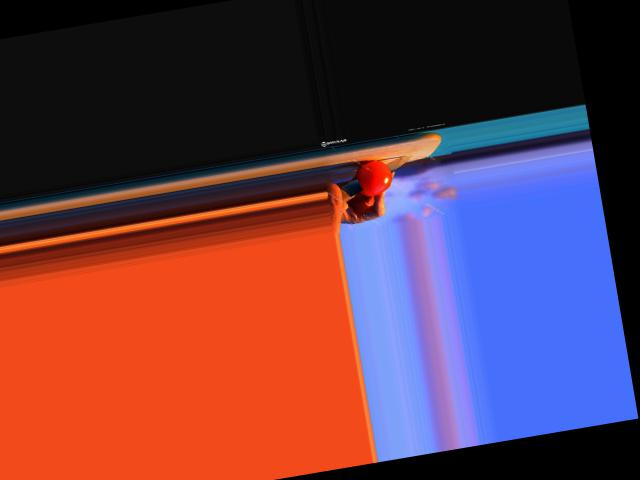tomato: (353, 157, 395, 197)
